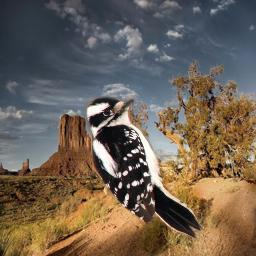Woodpecker: (85, 96, 204, 242)
